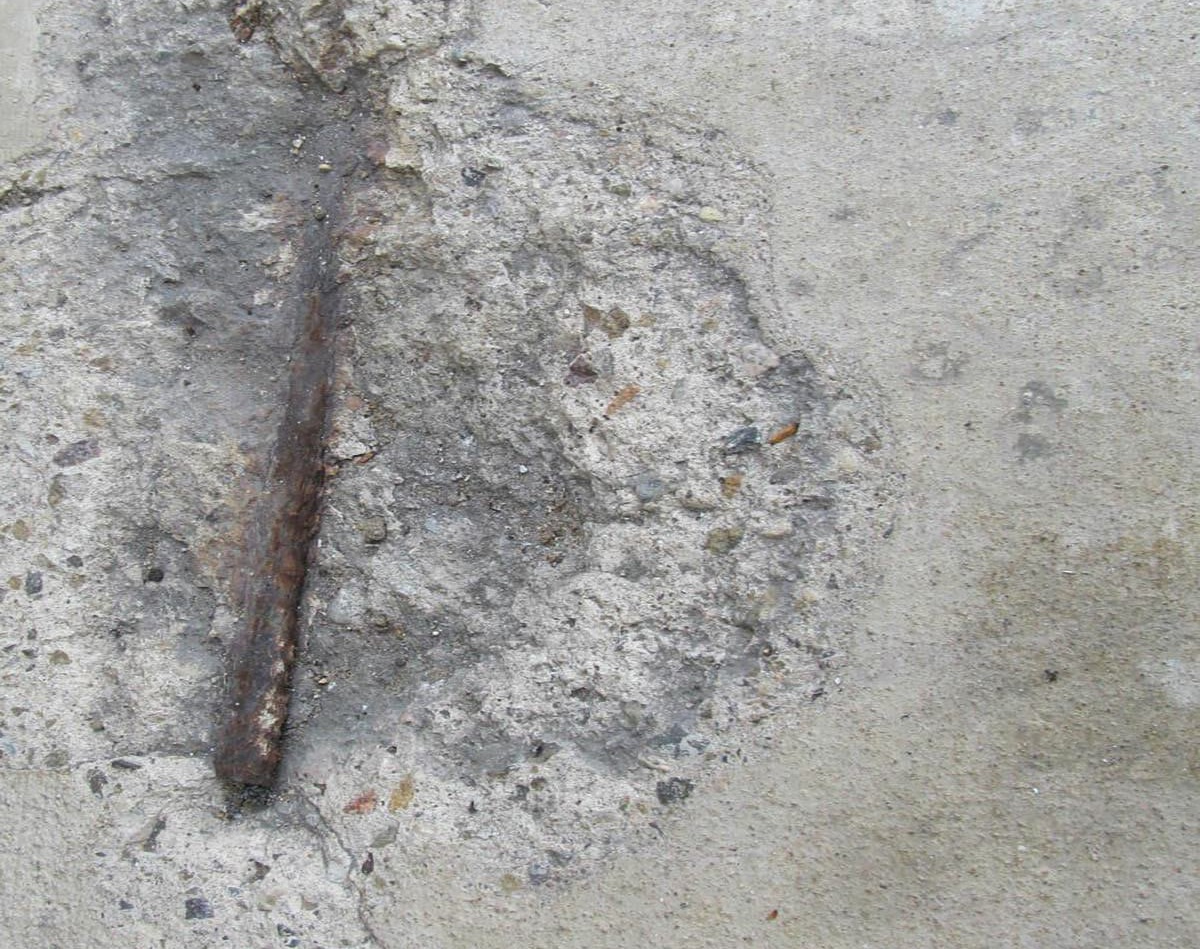Exposed reinforcement: (214, 243, 342, 798)
Spalling: (1, 1, 898, 949)
